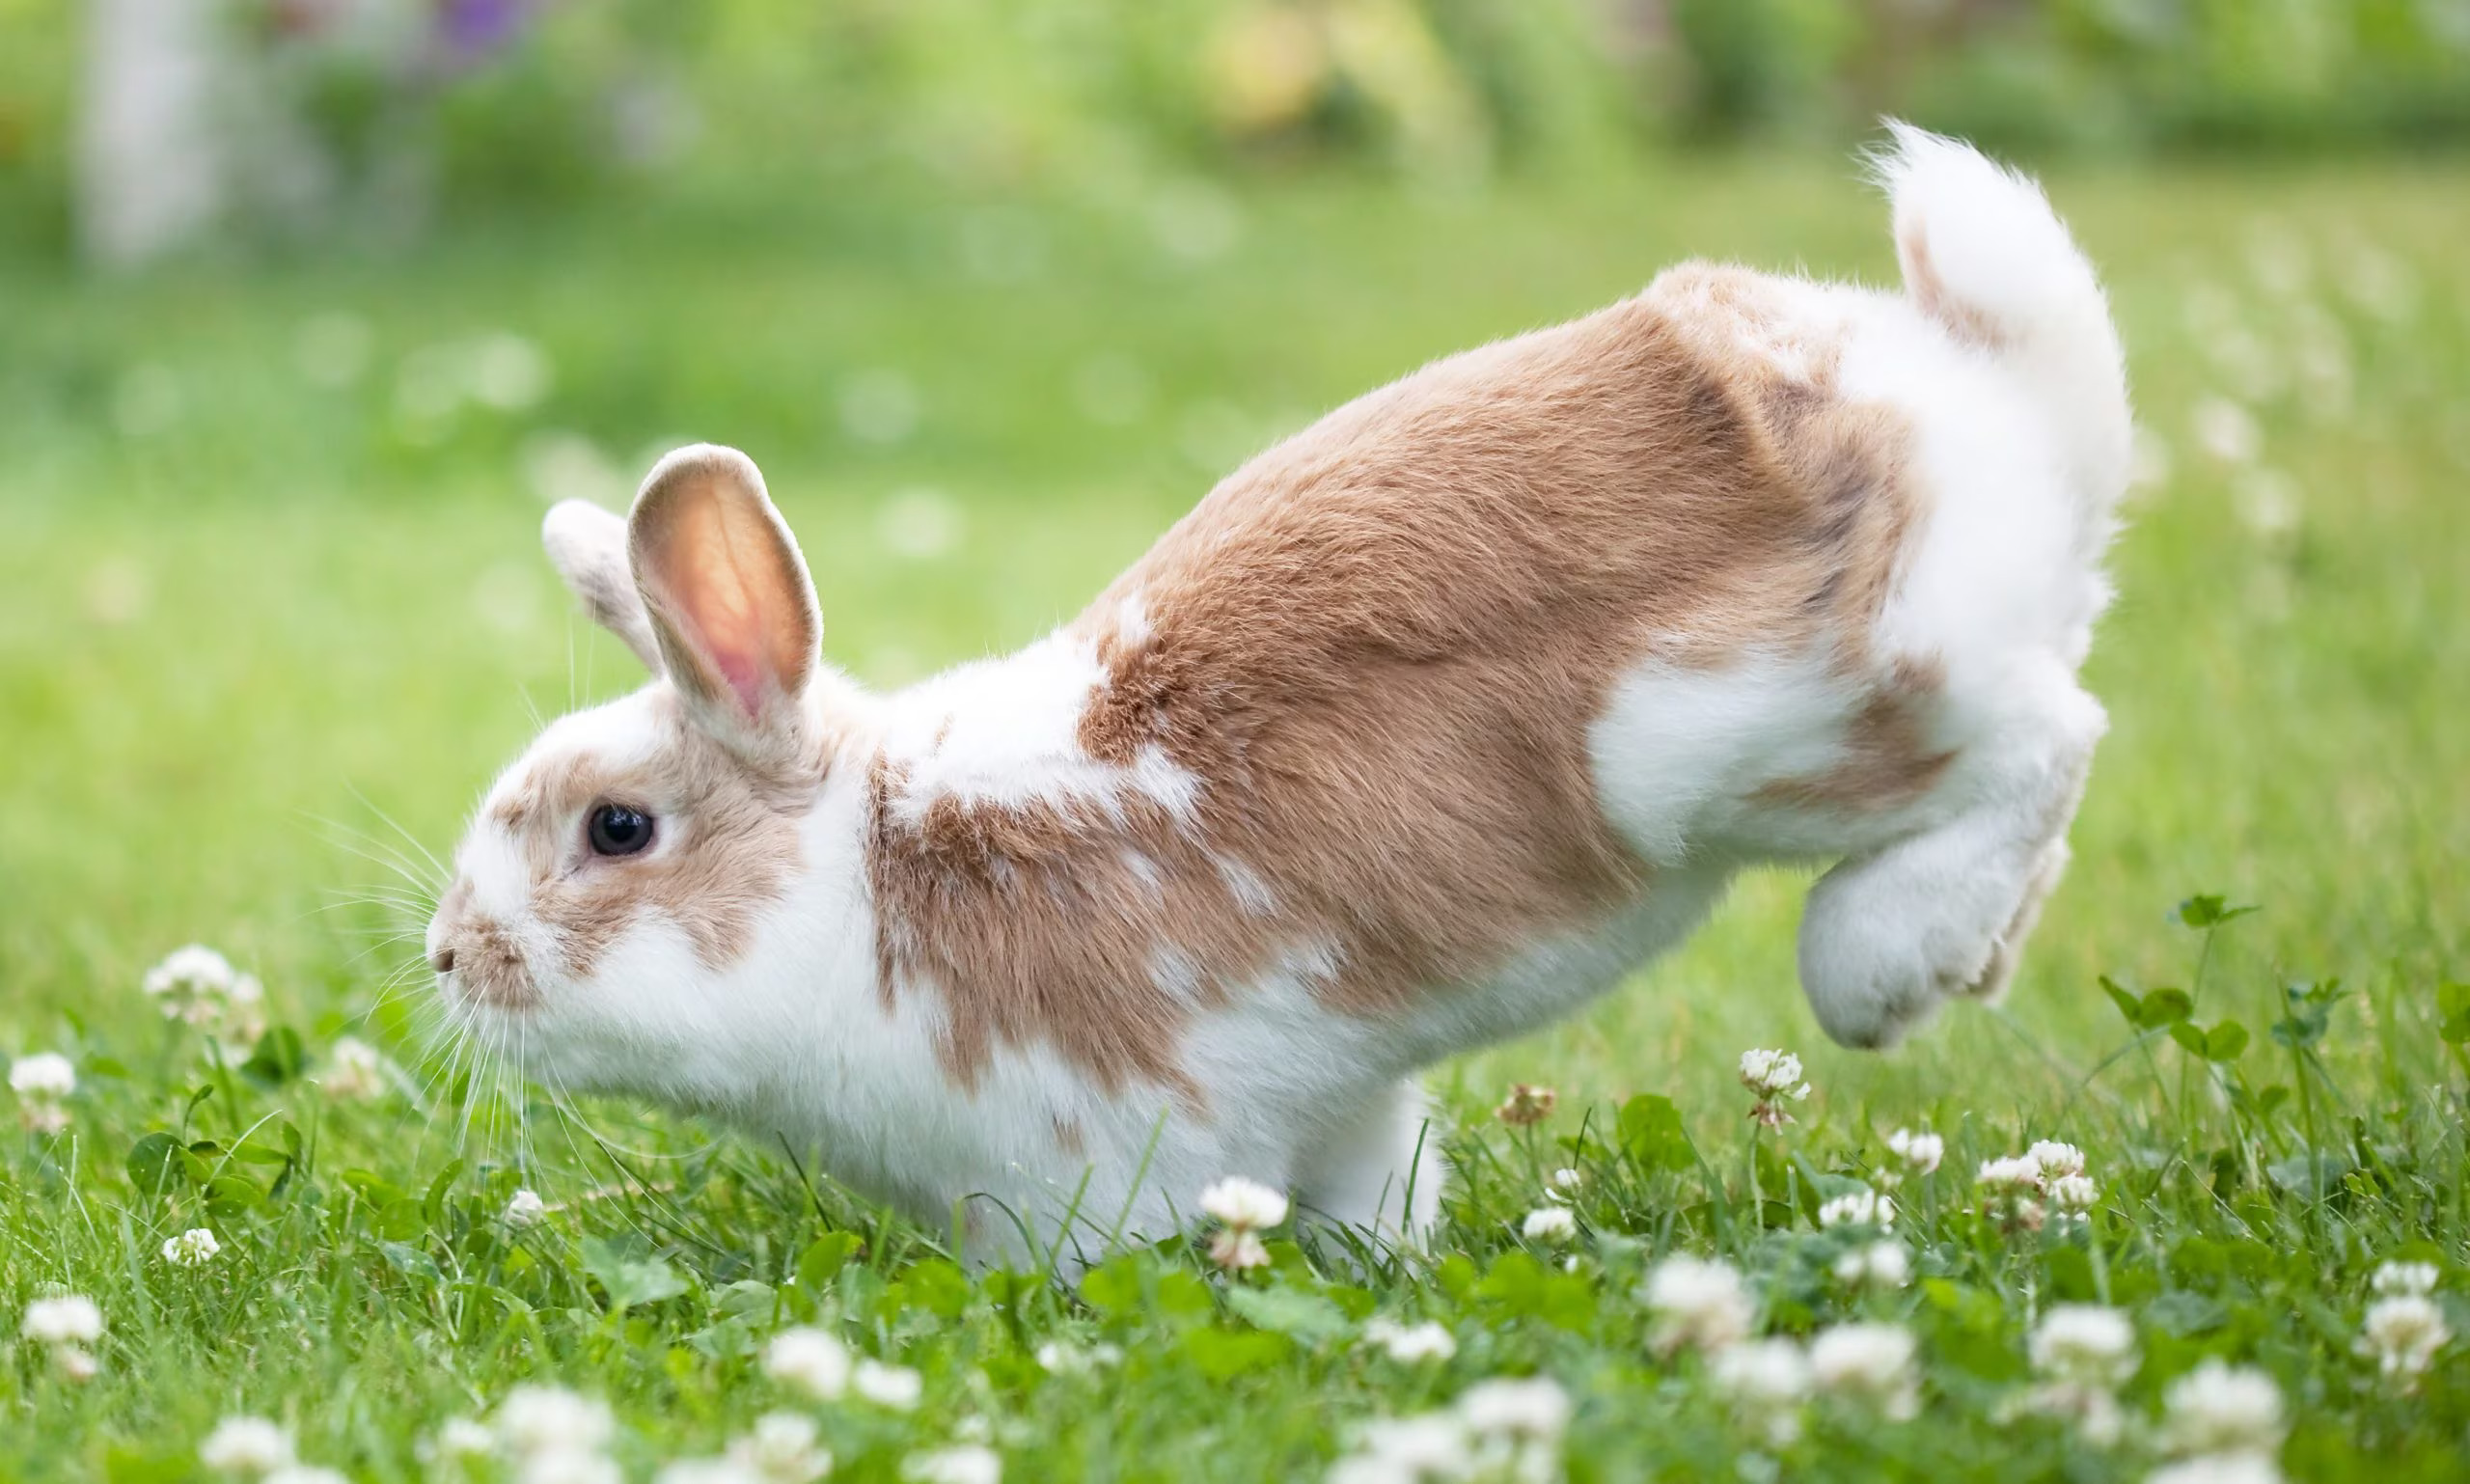rabbit: (418, 131, 2145, 1286)
